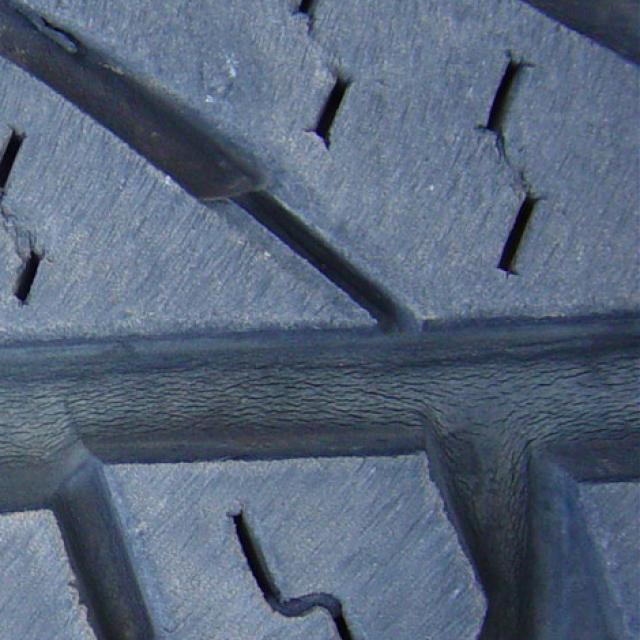Cracks: (0, 326, 639, 554)
